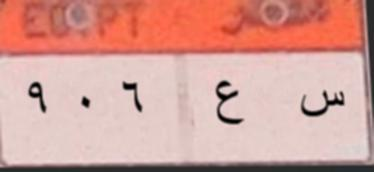0: (74, 91, 96, 121)
6: (119, 77, 150, 120)
9: (24, 79, 50, 121)
ain: (210, 72, 248, 134)
seen: (294, 80, 346, 126)
